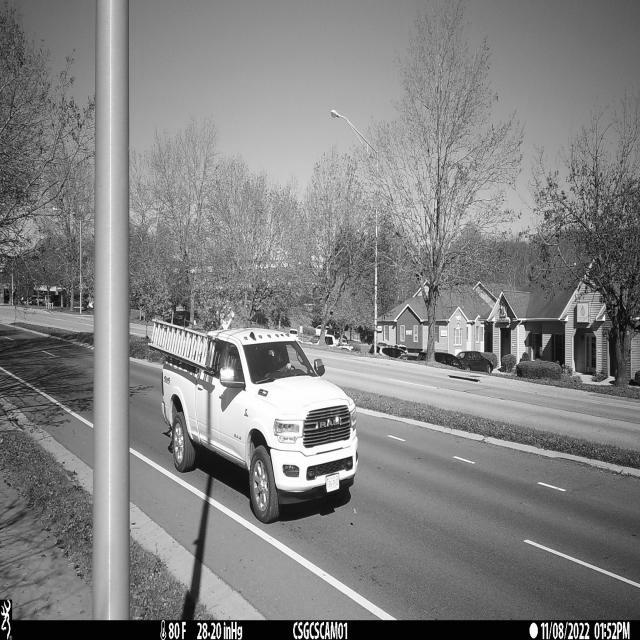Pickup: (149, 321, 358, 524)
